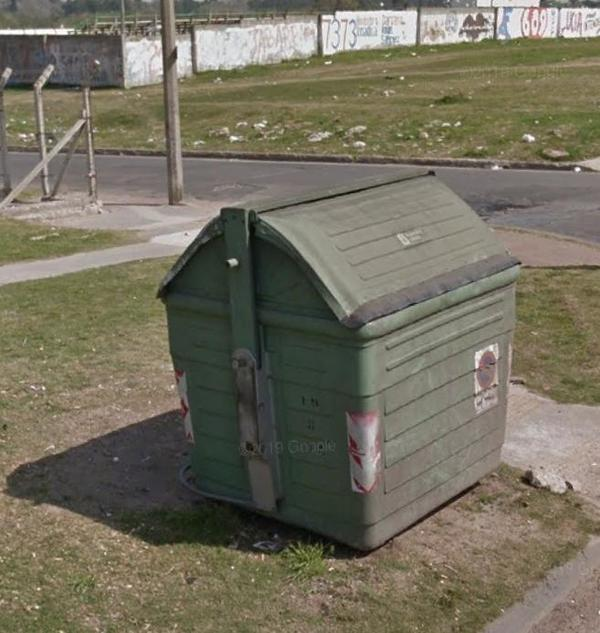Trash: (157, 170, 520, 550)
